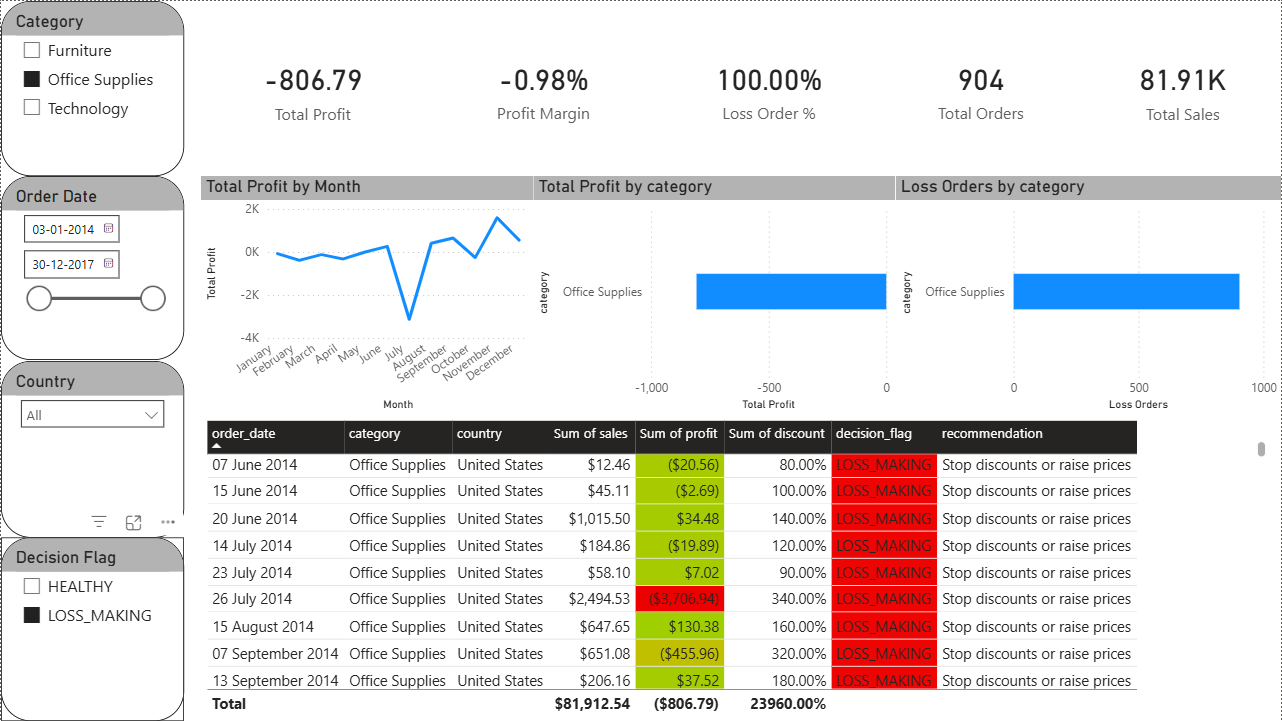

Layout of this report page (visuals, bound fields, positions):
{"tool":"powerbi","page":{"name":"Page 1","canvas":[1280,720],"ordinal":0},"visuals":[{"type":"card","fields":{"Values":["decision_engine_bi_fact.Profit Margin"]},"box":[424.2,0,237.6,175.4],"z":0},{"type":"card","fields":{"Values":["decision_engine_bi_fact.Total Orders"]},"box":[875.7,0,207.7,175.4],"z":1000},{"type":"card","fields":{"Values":["decision_engine_bi_fact.Loss Order %"]},"box":[661.8,0,214,175.4],"z":2000},{"type":"card","fields":{"Values":["decision_engine_bi_fact.Total Sales"]},"box":[1083.5,1.2,196.5,174.2],"z":3000},{"type":"card","fields":{"Values":["decision_engine_bi_fact.Total Profit"]},"box":[200.3,1.2,223.9,174.2],"z":4000},{"type":"lineChart","fields":{"Category":["dim_date.order_date.Variation.Date Hierarchy.Month"],"Y":["decision_engine_bi_fact.Total Profit"]},"box":[200.3,175.4,332.1,240.1],"z":5000},{"type":"clusteredBarChart","fields":{"Category":["dim_category.category"],"Y":["decision_engine_bi_fact.Total Profit"]},"box":[532.4,175.4,362,240.1],"z":6000},{"type":"clusteredBarChart","fields":{"Category":["dim_category.category"],"Y":["decision_engine_bi_fact.Loss Orders"]},"box":[894.4,175.4,385.6,240.1],"z":7000},{"type":"tableEx","fields":{"Values":["decision_engine_bi_fact.order_date","decision_engine_bi_fact.category","decision_engine_bi_fact.country","Sum(decision_engine_bi_fact.sales)","Sum(decision_engine_bi_fact.profit)","Sum(decision_engine_bi_fact.discount)","decision_engine_bi_fact.decision_flag","decision_engine_bi_fact.recommendation"]},"box":[200.3,415.5,1069.8,304.8],"z":8000},{"type":"slicer","title":"Order Date","fields":{"Values":["decision_engine_bi_fact.order_date"]},"box":[0,175.4,182.9,184.1],"z":8001},{"type":"slicer","title":"Country","fields":{"Values":["decision_engine_bi_fact.country"]},"box":[0,359.5,182.9,176.6],"z":8002},{"type":"slicer","title":"Category","fields":{"Values":["decision_engine_bi_fact.category"]},"box":[0,0,182.9,175.4],"z":8003},{"type":"slicer","title":"Decision Flag","fields":{"Values":["decision_engine_bi_fact.decision_flag"]},"box":[0,536.1,182.9,184.1],"z":8004}]}

Visuals, with their boxes in screenshot pixels (x1, y1, x2, y2), scaled from the page's 1280x720 canvas onto the 1282x721 screenshot:
card - decision_engine_bi_fact.Profit Margin: BBox(425, 0, 663, 176)
card - decision_engine_bi_fact.Total Orders: BBox(877, 0, 1085, 176)
card - decision_engine_bi_fact.Loss Order %: BBox(663, 0, 877, 176)
card - decision_engine_bi_fact.Total Sales: BBox(1085, 1, 1281, 176)
card - decision_engine_bi_fact.Total Profit: BBox(201, 1, 425, 176)
lineChart - dim_date.order_date.Variation.Date Hierarchy.Month x decision_engine_bi_fact.Total Profit: BBox(201, 176, 533, 416)
clusteredBarChart - dim_category.category x decision_engine_bi_fact.Total Profit: BBox(533, 176, 896, 416)
clusteredBarChart - dim_category.category x decision_engine_bi_fact.Loss Orders: BBox(896, 176, 1281, 416)
tableEx - decision_engine_bi_fact.order_date x decision_engine_bi_fact.category: BBox(201, 416, 1272, 720)
"Order Date" slicer: BBox(0, 176, 183, 360)
"Country" slicer: BBox(0, 360, 183, 537)
"Category" slicer: BBox(0, 0, 183, 176)
"Decision Flag" slicer: BBox(0, 537, 183, 720)
